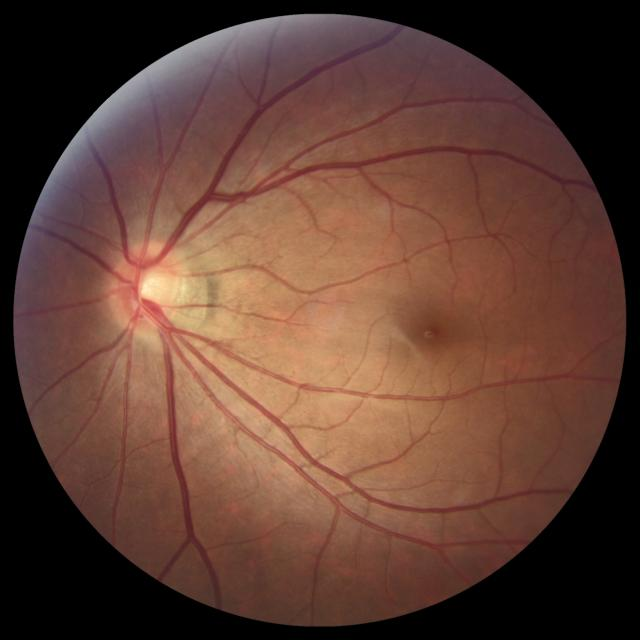OC: (134, 266, 168, 306)
OD: (110, 244, 184, 331)
